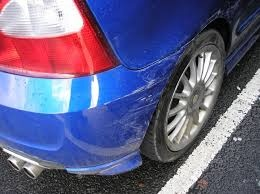Scratch: (109, 54, 177, 170), (192, 11, 229, 37)
